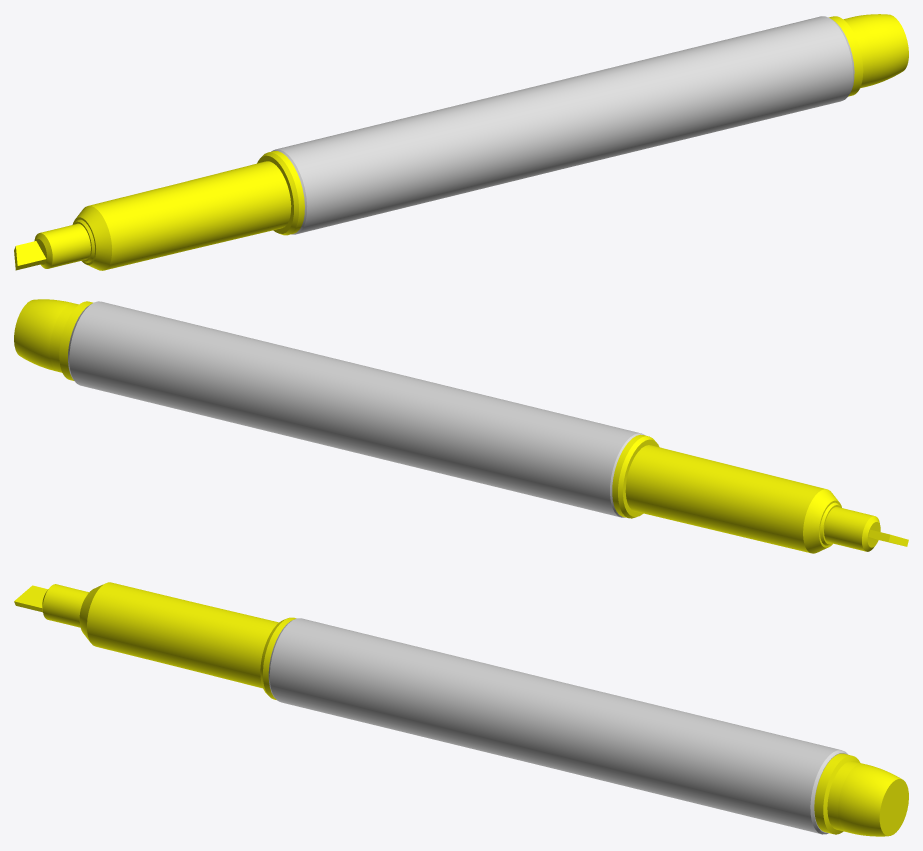
Rendered from 210_蛍光ペン開.glb.
3 renders of one model, top to bottom at view 1: azimuth 30°, elevation 25°; view 2: azimuth 150°, elevation 25°; view 3: azimuth 330°, elevation 25°, orthographic.
Parts seen in each view (by area): view 1: body; view 2: body; view 3: body.
Boxes of the visible parts, x1,y1,x2,y2 form: body: (14,14,908,270); body: (14,299,908,553); body: (14,582,908,836).
Bounding box in the file's own units: 0.1375 × 0.0118 × 0.0118.
